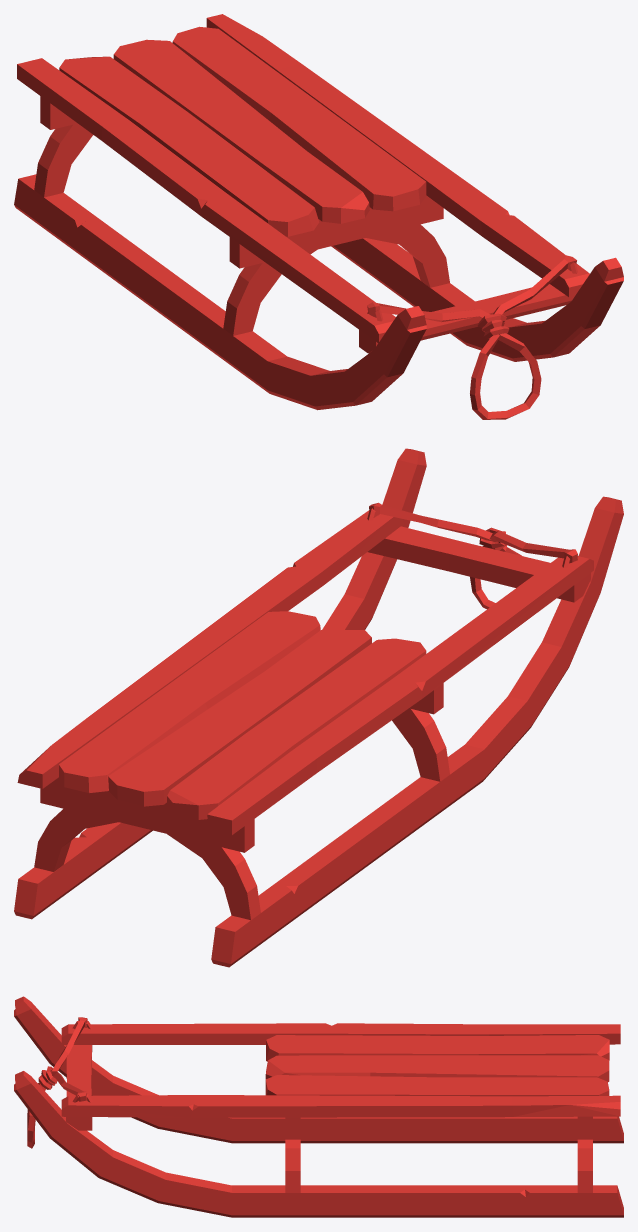
File: SM_Sleigh_Wooden.fbx
The picture shows the model from 3 angles, top to bottom: view 1: azimuth 30°, elevation 25°; view 2: azimuth 150°, elevation 25°; view 3: azimuth 270°, elevation 25°; orthographic projection. The views are drawn at different scales.
Parts seen in each view (by area): view 1: sleigh-wooden; view 2: sleigh-wooden; view 3: sleigh-wooden.
Boxes of the visible parts, bbox=[...] form: sleigh-wooden: bbox=[14, 14, 623, 419]; sleigh-wooden: bbox=[14, 448, 623, 967]; sleigh-wooden: bbox=[14, 996, 623, 1217].
Bounding box in the file's own units: 0.3941 × 0.3126 × 1.22.
